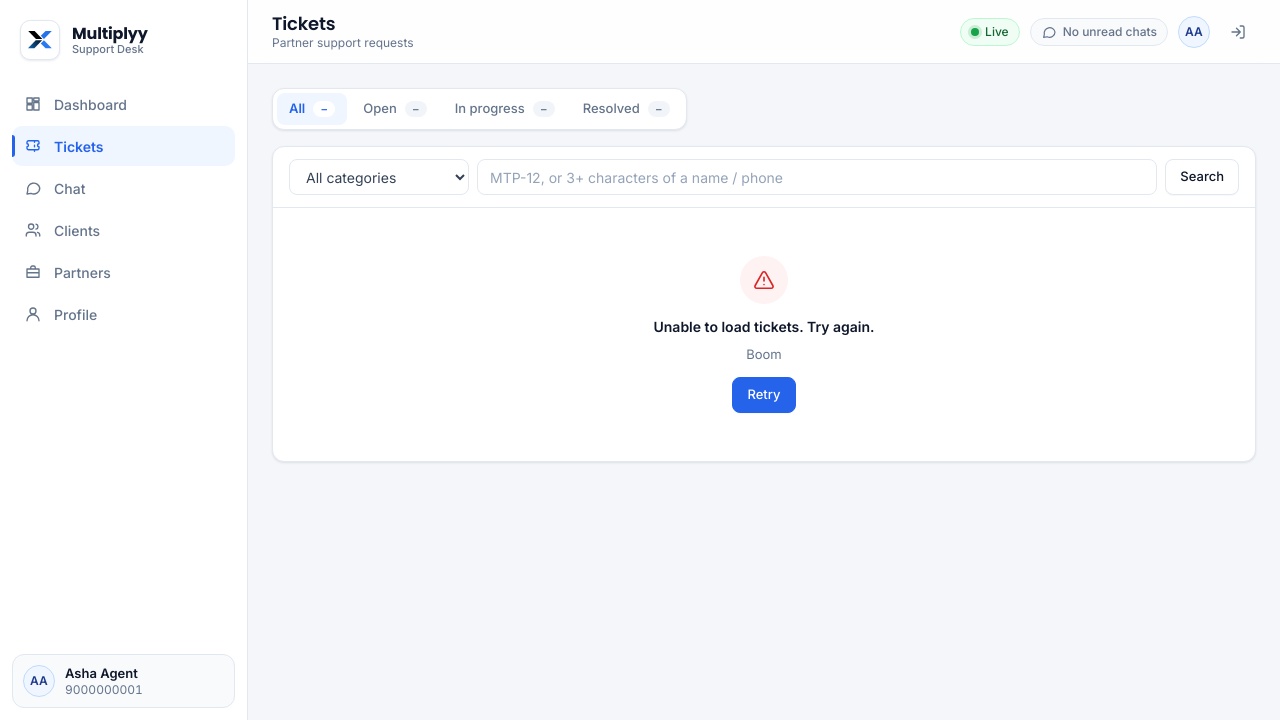
Test: tickets list › shows the empty state and the error state with retry
The width and height of the screenshot is (1280, 720).
Expected: the text "Unable to load tickets. Try again." is shown, [654,316,874,337]
Click the button "Retry". click: [764, 394]
box: [732,376,796,412]
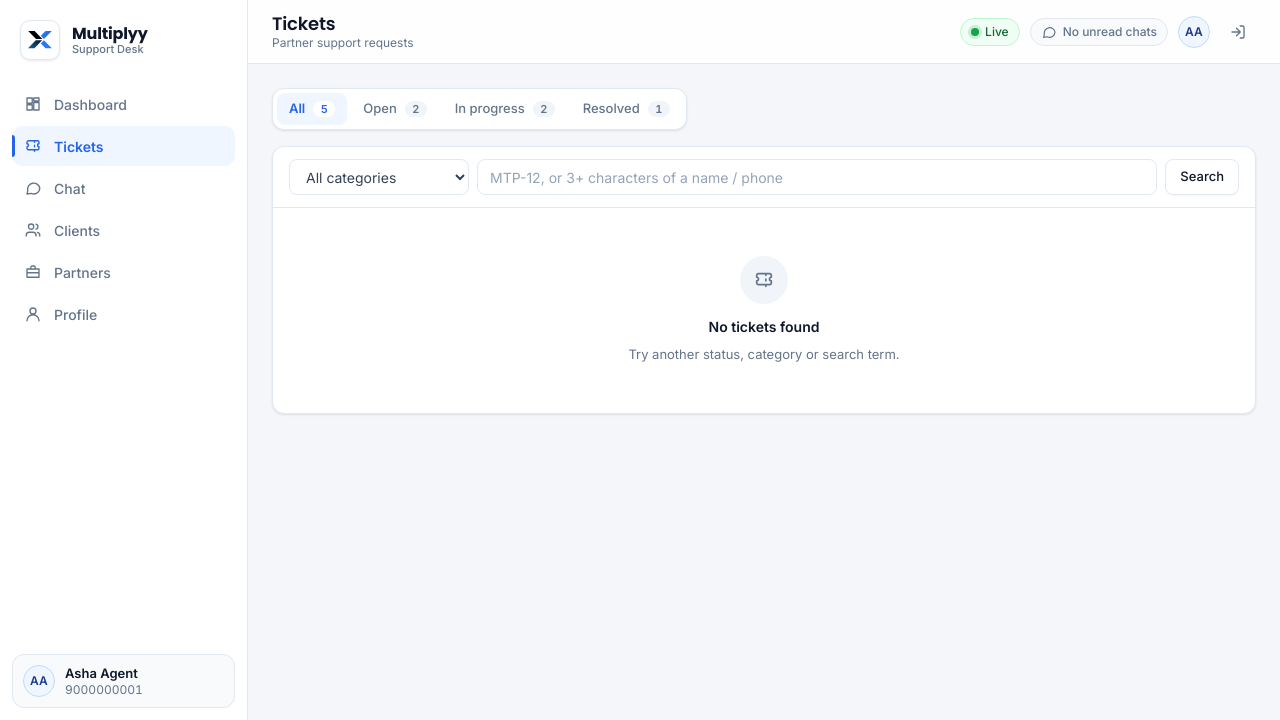
Expected: the text "No tickets found" is shown, [708,316,819,337]
